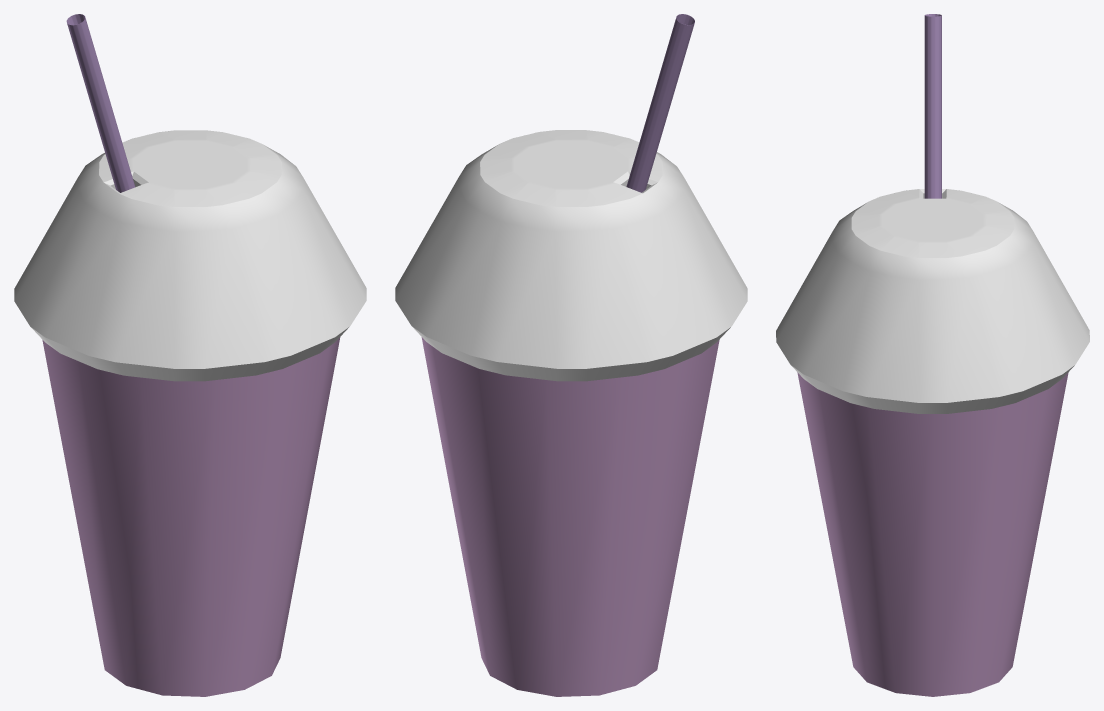
File: milkshake_kapak.fbx
3 renders of one model, left to right at view 1: azimuth 30°, elevation 25°; view 2: azimuth 150°, elevation 25°; view 3: azimuth 270°, elevation 25°, orthographic. The views are drawn at different scales.
Parts seen in each view (by area): view 1: pCylinder1, milkshake_kapak, pipet; view 2: pCylinder1, milkshake_kapak, pipet; view 3: pCylinder1, milkshake_kapak, pipet.
Part boxes in pixels (x1=…): pCylinder1: x1=42, y1=337, x2=340, y2=696; milkshake_kapak: x1=14, y1=130, x2=366, y2=381; pipet: x1=66, y1=14, x2=135, y2=192; pCylinder1: x1=421, y1=337, x2=719, y2=696; milkshake_kapak: x1=395, y1=130, x2=747, y2=381; pipet: x1=626, y1=14, x2=694, y2=192; pCylinder1: x1=797, y1=372, x2=1068, y2=696; milkshake_kapak: x1=776, y1=189, x2=1089, y2=413; pipet: x1=924, y1=14, x2=941, y2=198.
Size of the model in its own units: 2.93 by 6.14 by 2.91.
